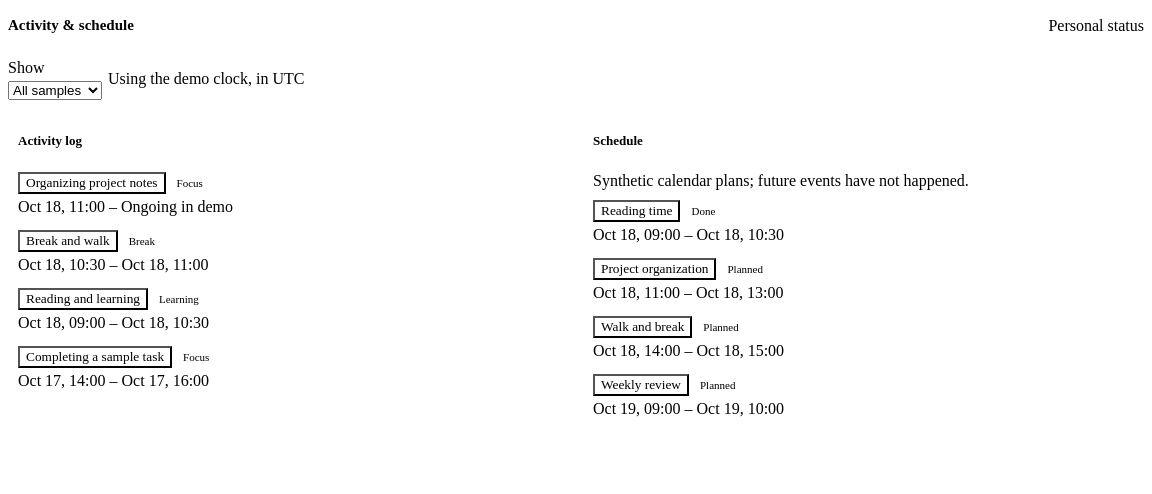
personal records › keeps activity detail navigation and bilingual checkup records readable
This screenshot has width=1152, height=494.
Step 1. Click the button "Organizing project notes" → (92, 183), box x1=18 y1=172 x2=166 y2=194
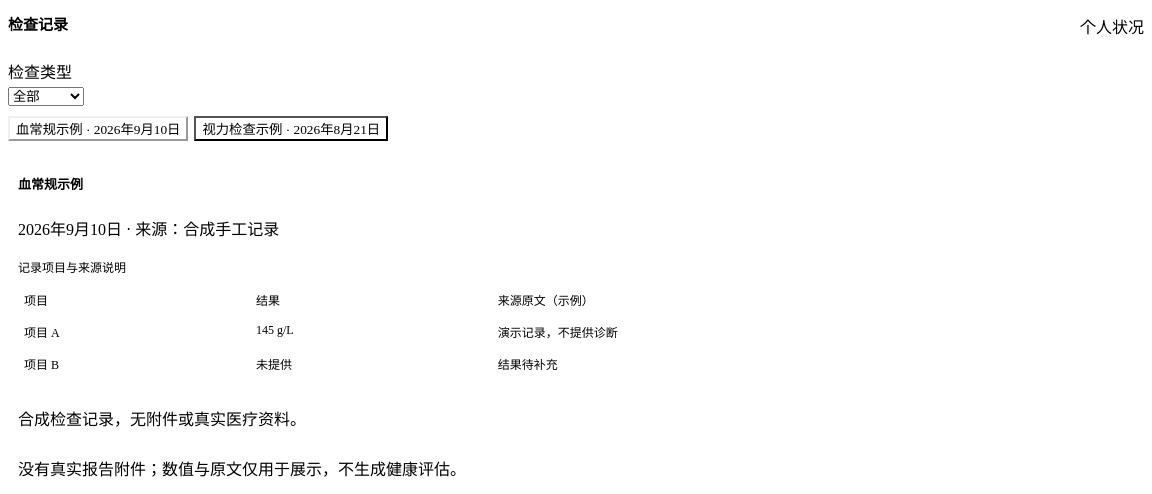
Expected: the text "血常规示例" is shown, x1=8 y1=116 x2=188 y2=141
Expected: the text "未提供" is shown, x1=250 y1=348 x2=492 y2=380
